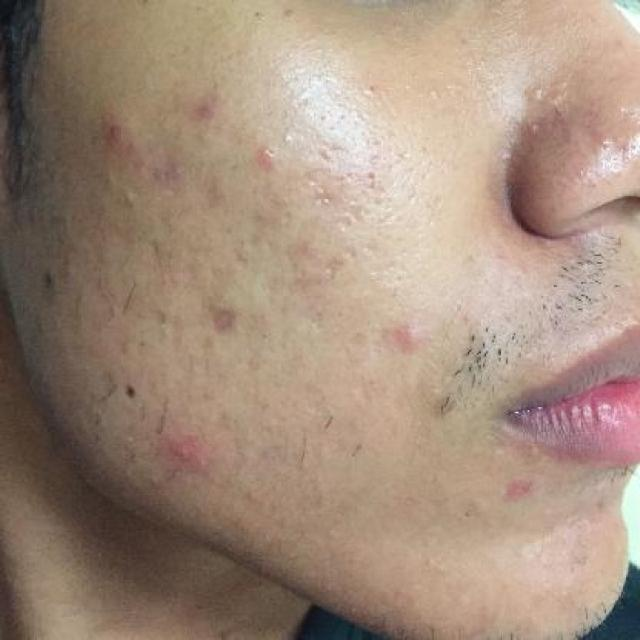dark spot: (198, 299, 252, 352), (94, 119, 138, 156), (177, 94, 214, 127), (320, 256, 351, 285)
papules: (164, 429, 216, 484), (374, 312, 434, 359), (486, 475, 542, 521), (240, 140, 291, 173)
